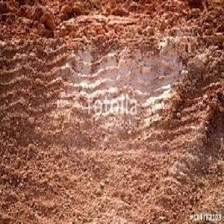clay_soil: (9, 23, 218, 197)
